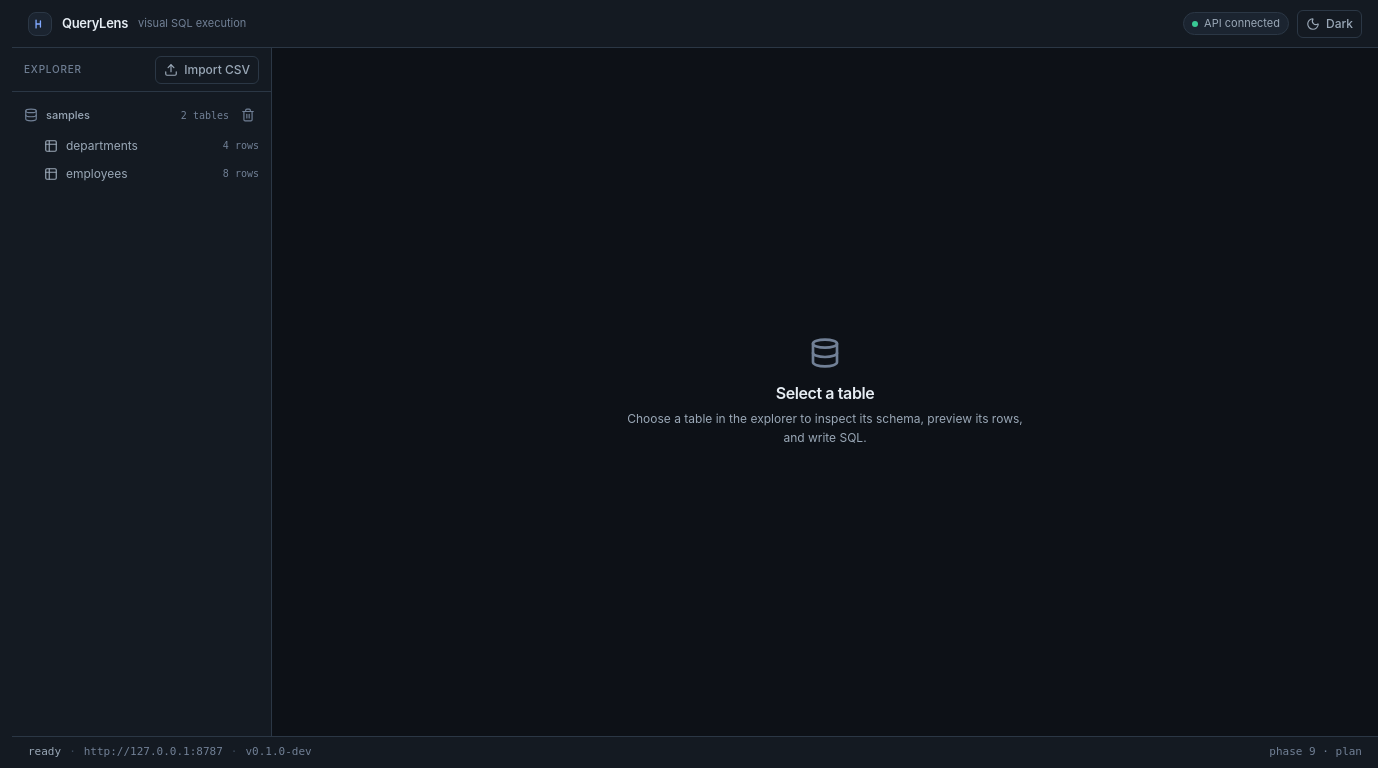
Test: App › shows the schema and a row preview for a selected table
Click the button "employees 8 rows".
click(142, 174)  # box [12,160,271,188]
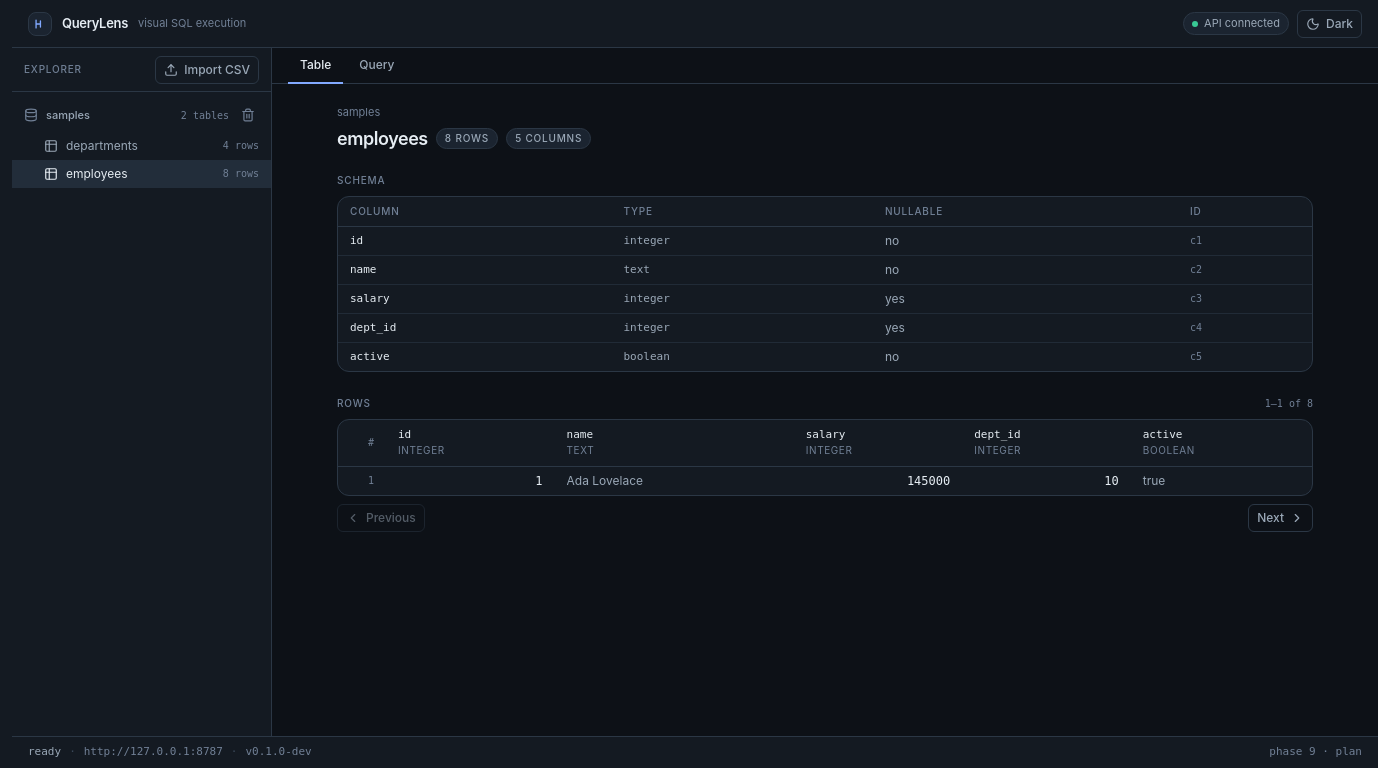
Result: the text "Ada Lovelace" is shown at [566,473,643,488]
Result: the text "145000" is shown at [907,474,950,488]
Result: the text "salary" is shown at [338,284,611,313]
